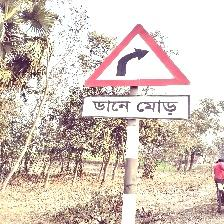Right-turn: (81, 25, 193, 121)
